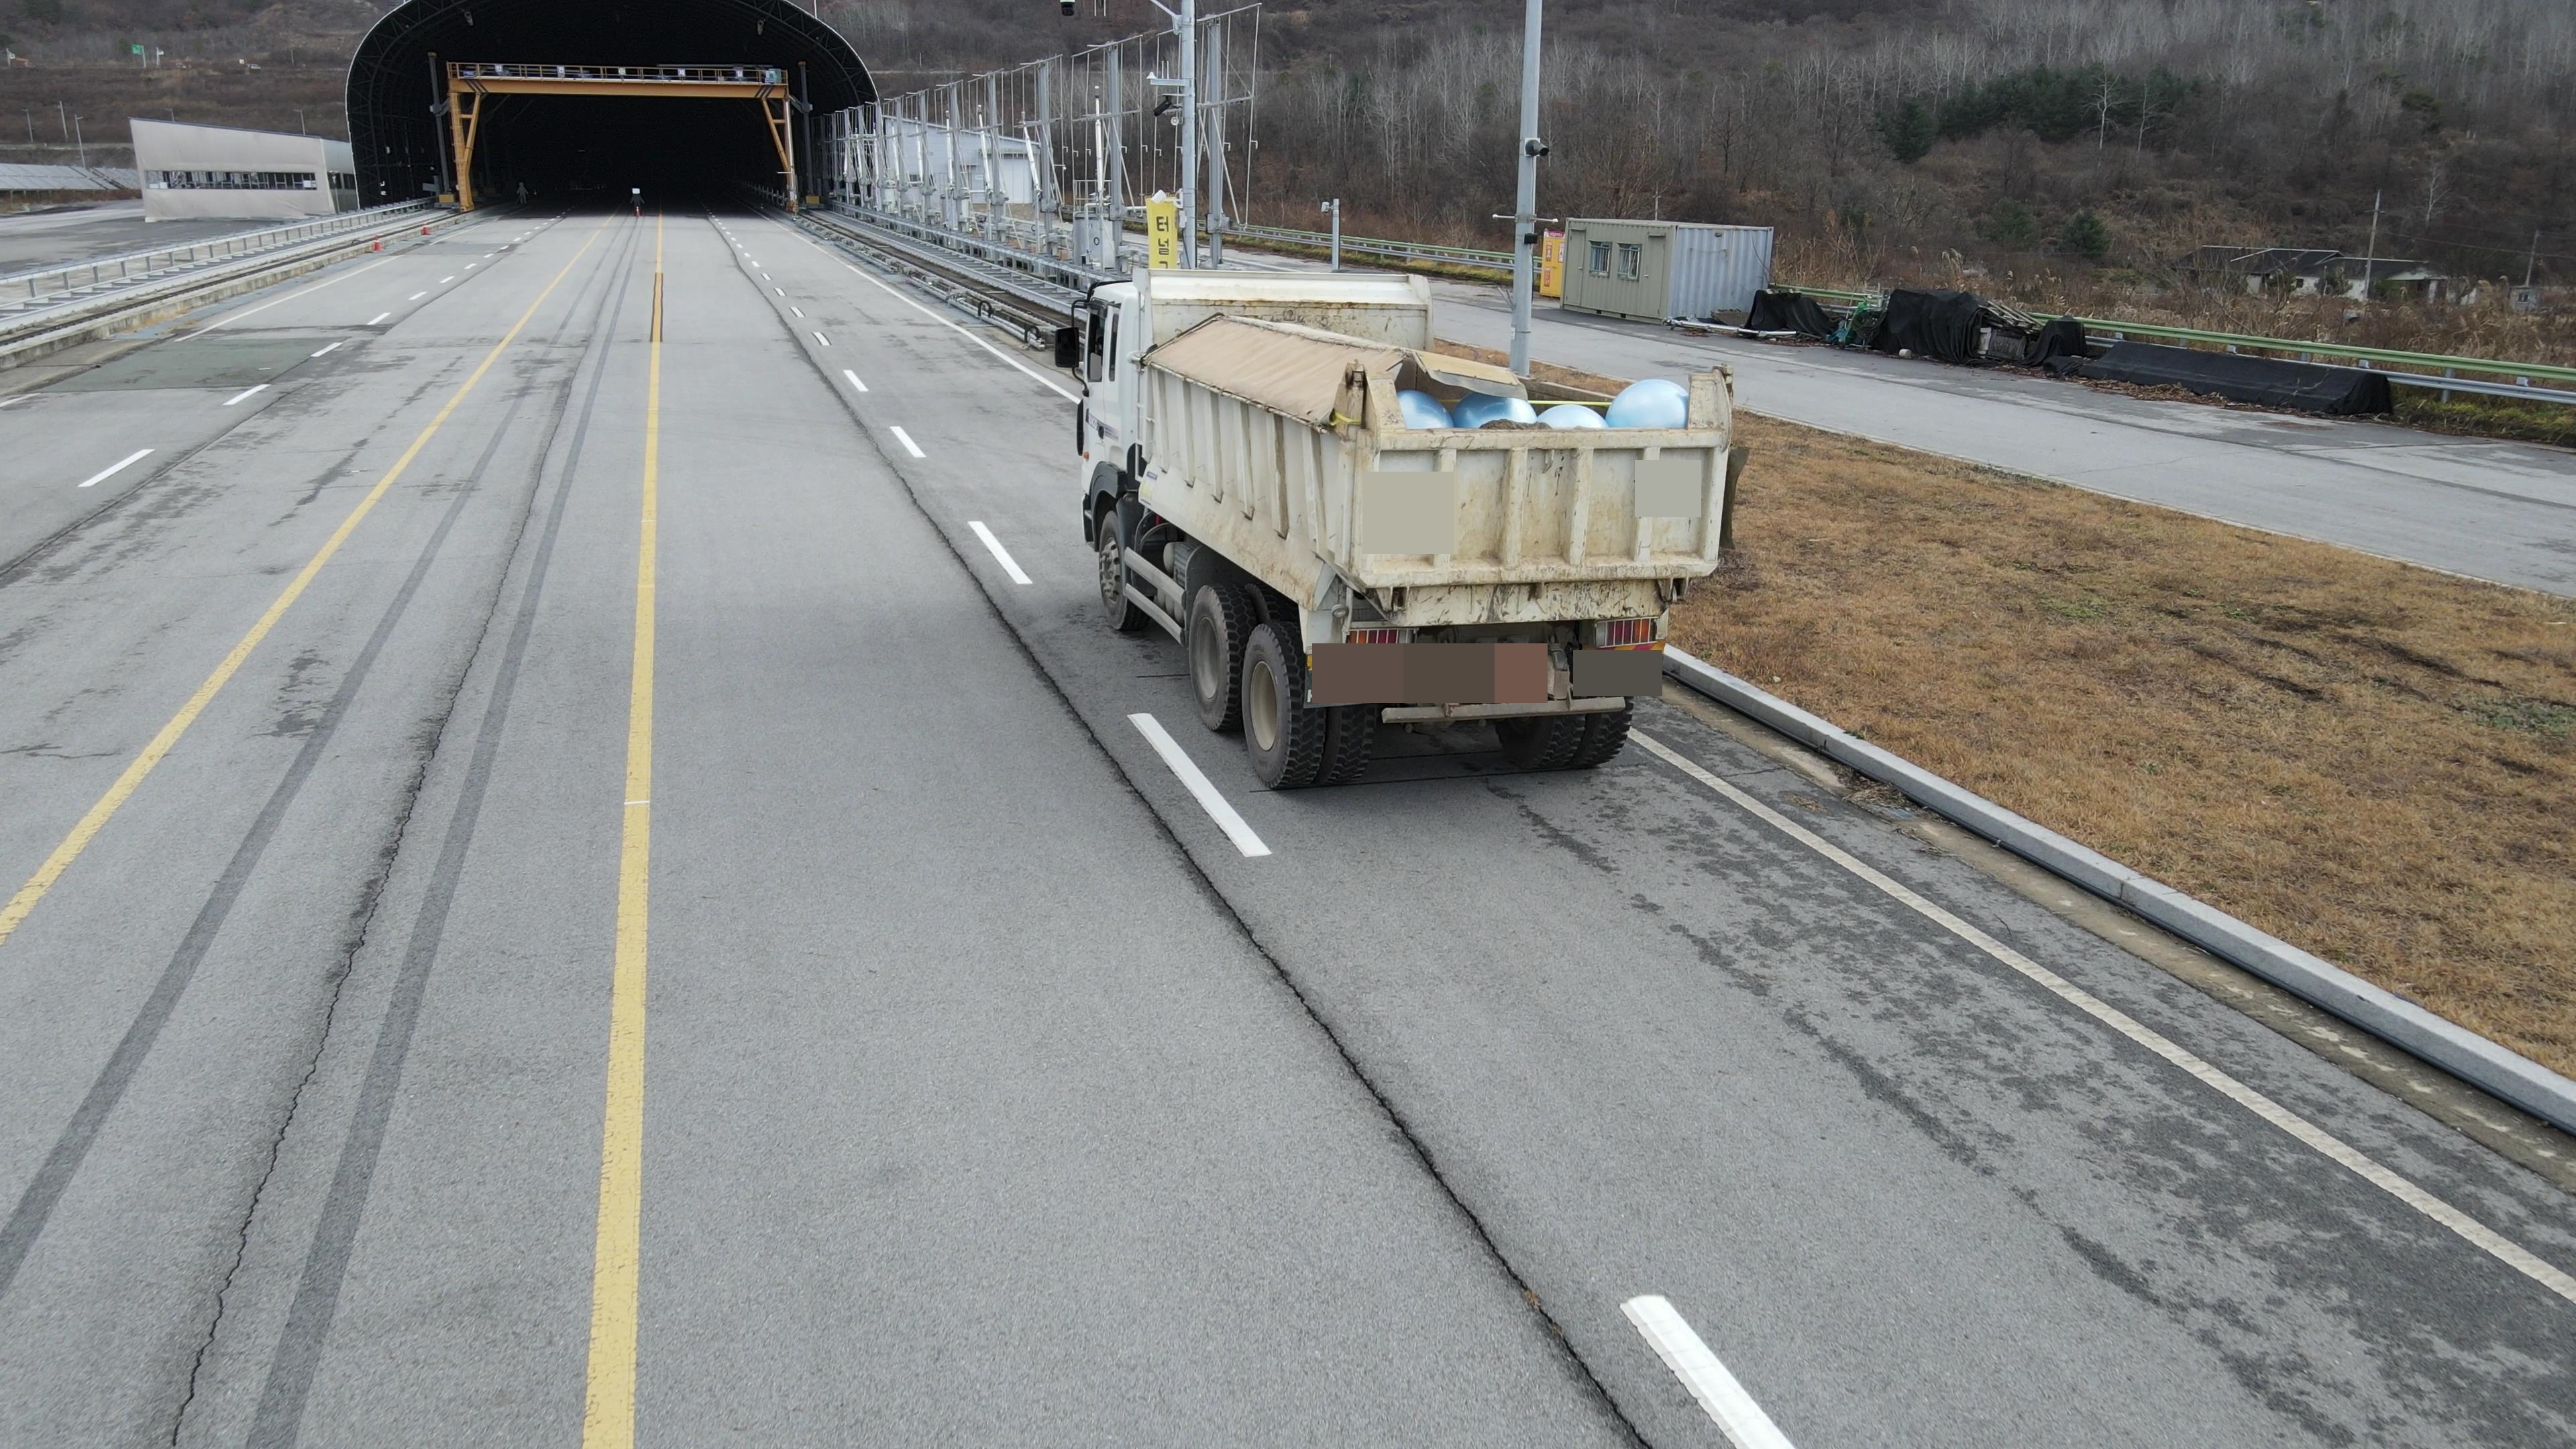불법차량: (1054, 271, 1750, 793)
